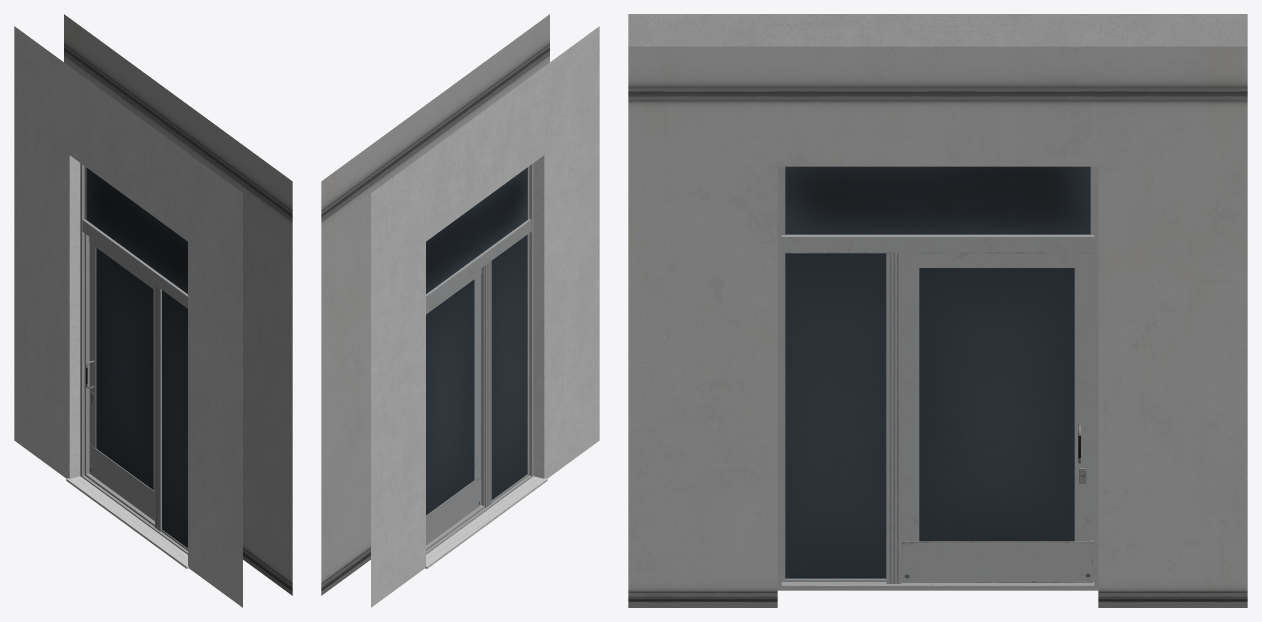
The model's file is MB_Entrance_A_03.fbx.
3 renders of one model, left to right at view 1: azimuth 30°, elevation 25°; view 2: azimuth 150°, elevation 25°; view 3: azimuth 270°, elevation 25°, orthographic. The views are drawn at different scales.
Parts seen in each view (by area): view 1: MB_Entrance_A_03, MB_Door_Glass_03_LOD0; view 2: MB_Entrance_A_03, MB_Door_Glass_03_LOD0; view 3: MB_Entrance_A_03, MB_Door_Glass_03_LOD0.
Boxes of the visible parts, <box> form: MB_Entrance_A_03: <box>14,14,292,607</box>; MB_Door_Glass_03_LOD0: <box>86,237,154,520</box>; MB_Entrance_A_03: <box>321,14,599,607</box>; MB_Door_Glass_03_LOD0: <box>426,268,481,545</box>; MB_Entrance_A_03: <box>628,14,1247,607</box>; MB_Door_Glass_03_LOD0: <box>902,253,1092,582</box>.
Size of what is drawn, in the model's own units: 52.31 by 400 by 400.
